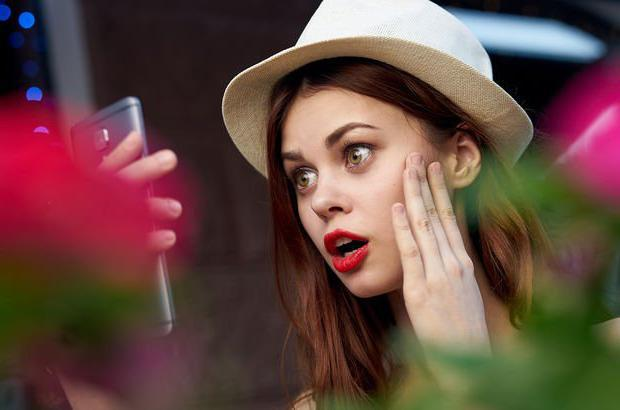face: (284, 88, 425, 294)
